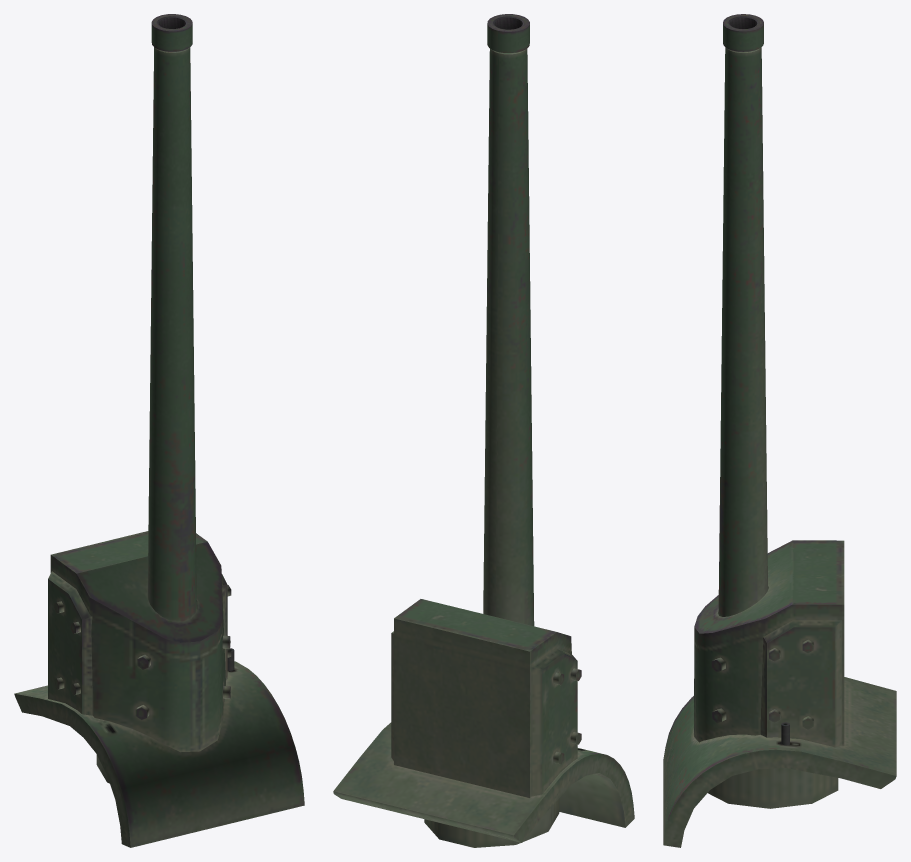
The model's file is Gun_01.glb.
3 renders of one model, left to right at view 1: azimuth 30°, elevation 25°; view 2: azimuth 150°, elevation 25°; view 3: azimuth 270°, elevation 25°, orthographic. The views are drawn at different scales.
Visible parts, largest first — view 1: set_0_group_0; view 2: set_0_group_0; view 3: set_0_group_0.
Boxes of the visible parts, left/top/right/bottom form: set_0_group_0: left=14, top=14, right=304, bottom=847; set_0_group_0: left=333, top=14, right=634, bottom=847; set_0_group_0: left=663, top=14, right=896, bottom=847.
Size of the model in its own units: 0.5513 by 2.33 by 0.6326.
1 material, 1 textured.
